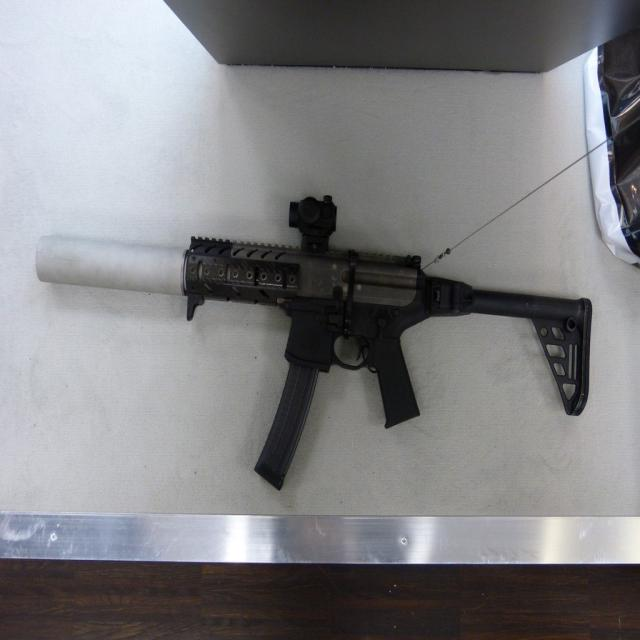firearm: (31, 189, 596, 491)
